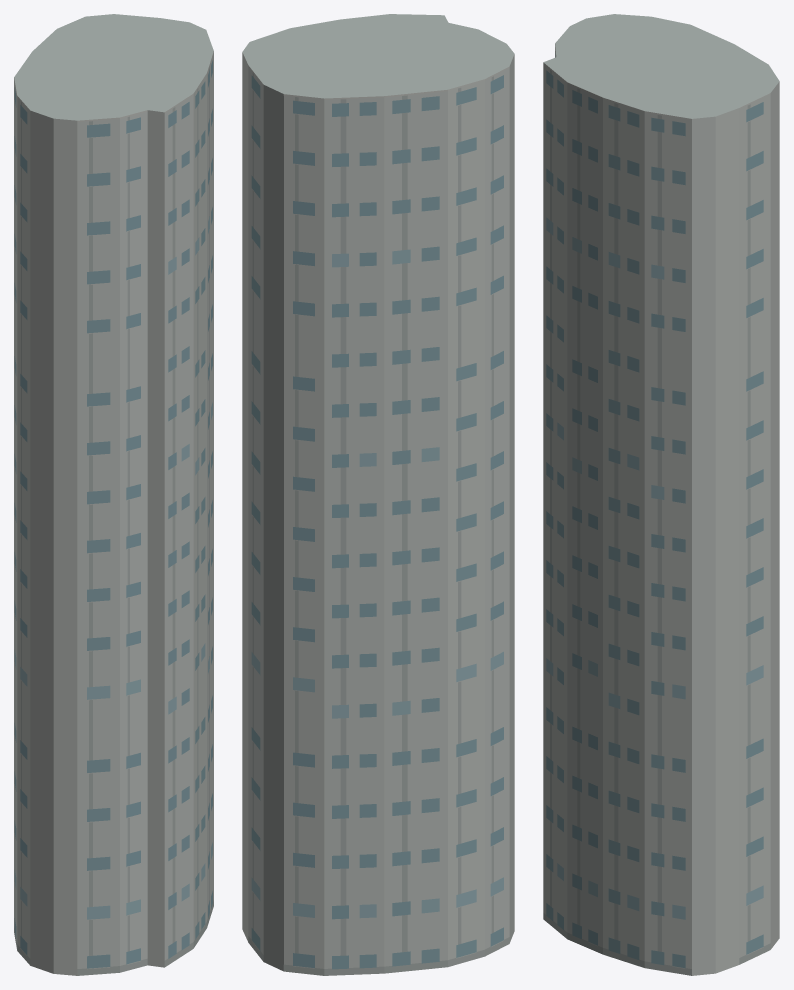
The model's file is residential-b5d88ad4-bec1-4178-9da2-b55aa8ea6a2d.glb.
3 views of the same model, side by side, from view 1: azimuth 30°, elevation 25°; view 2: azimuth 150°, elevation 25°; view 3: azimuth 270°, elevation 25° (orthographic). The views are drawn at different scales.
Parts seen in each view (by area): view 1: residential-b5d88ad4-bec1-4178-9da2-b55aa8ea6a2d.tmp; view 2: residential-b5d88ad4-bec1-4178-9da2-b55aa8ea6a2d.tmp; view 3: residential-b5d88ad4-bec1-4178-9da2-b55aa8ea6a2d.tmp.
Boxes of the visible parts, bbox=[...] form: residential-b5d88ad4-bec1-4178-9da2-b55aa8ea6a2d.tmp: bbox=[14, 14, 213, 975]; residential-b5d88ad4-bec1-4178-9da2-b55aa8ea6a2d.tmp: bbox=[242, 14, 514, 975]; residential-b5d88ad4-bec1-4178-9da2-b55aa8ea6a2d.tmp: bbox=[543, 14, 779, 975].
Bounding box in the file's own units: 34.38 × 131 × 32.73.
